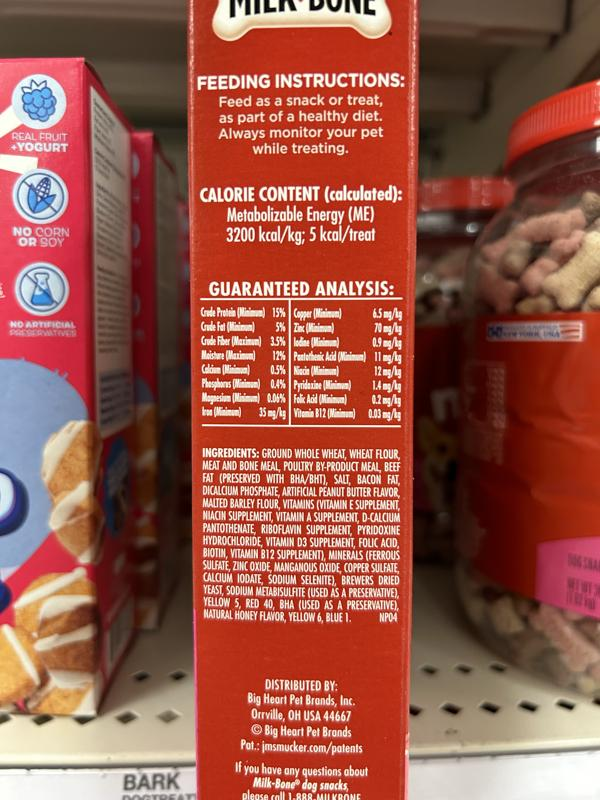ingredients: (199, 445, 404, 625)
